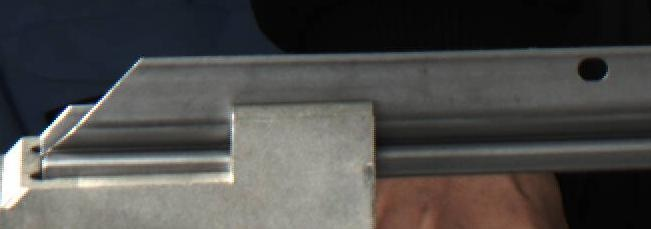cut: (32, 49, 213, 181)
holes: (575, 56, 610, 81)
